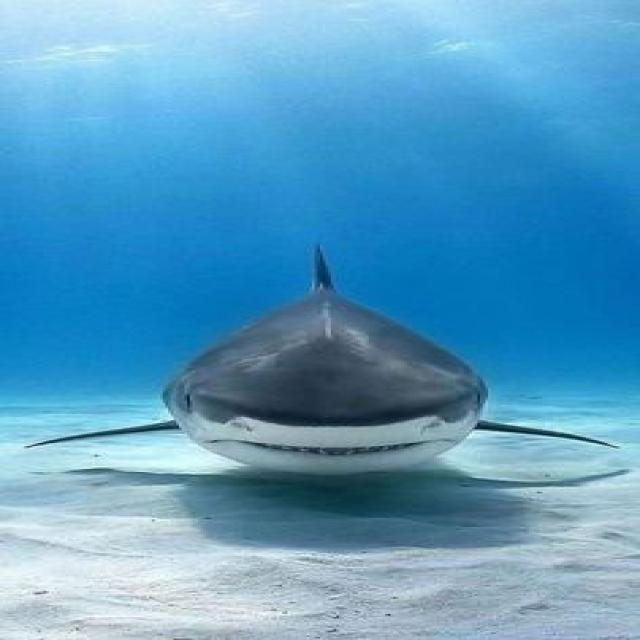Carnivorous: (68, 246, 621, 480)
